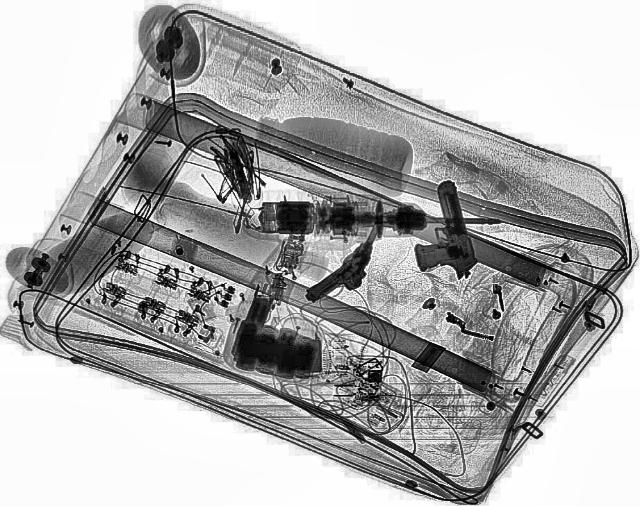Gun: (292, 224, 406, 313), (395, 179, 479, 283)
